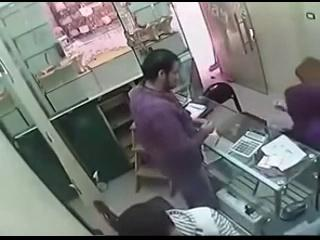Normal: (128, 48, 218, 212), (92, 196, 178, 236), (203, 82, 243, 113), (280, 200, 306, 221)
